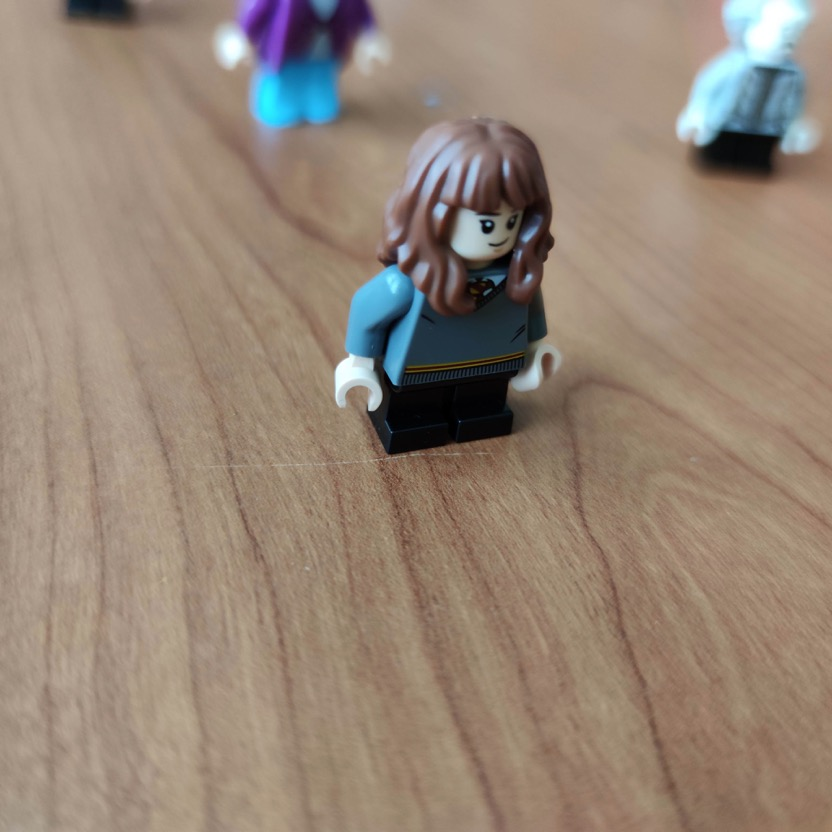lego: (333, 116, 561, 454)
